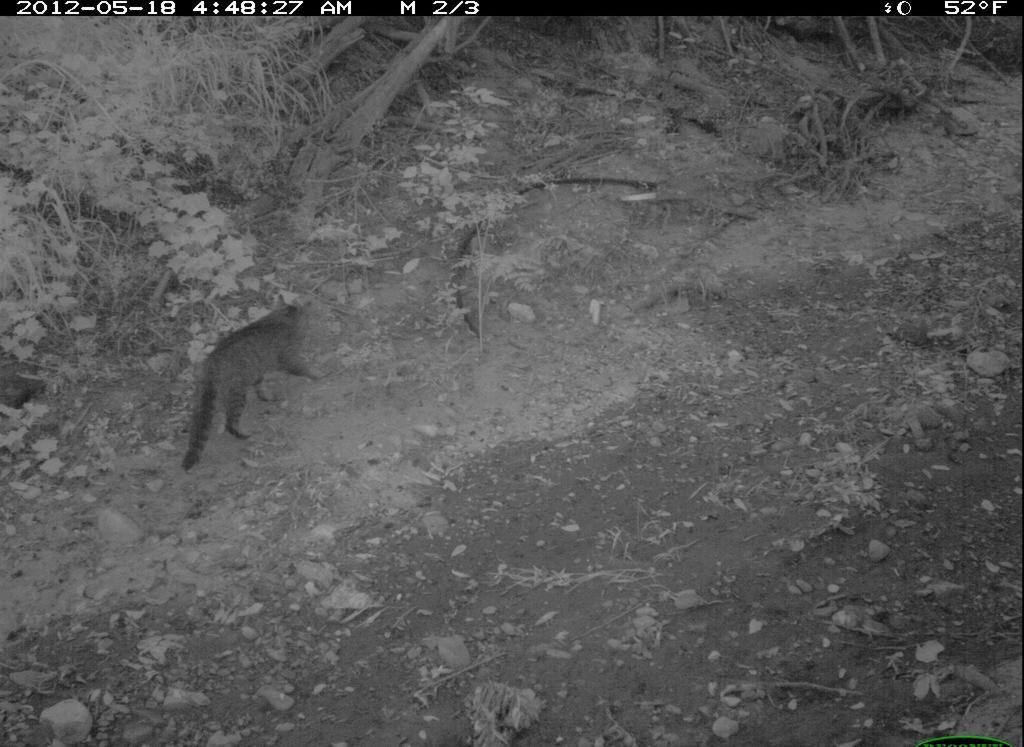cat: (177, 273, 323, 482)
